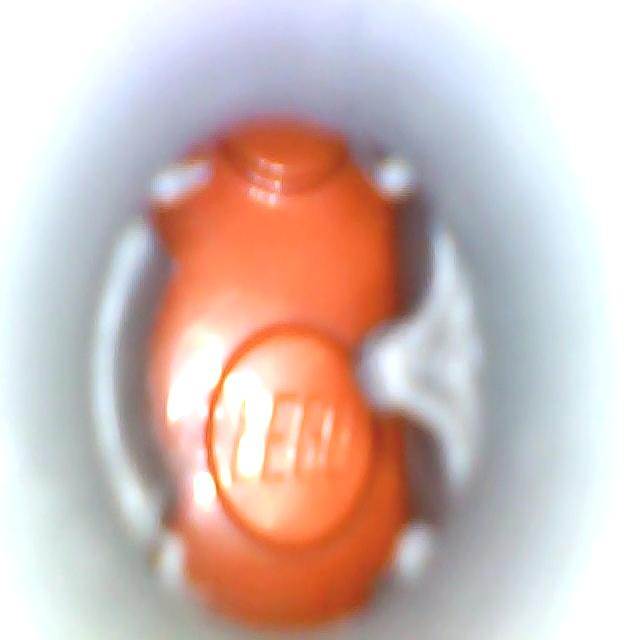studs: (206, 329, 372, 543), (218, 124, 349, 193)
